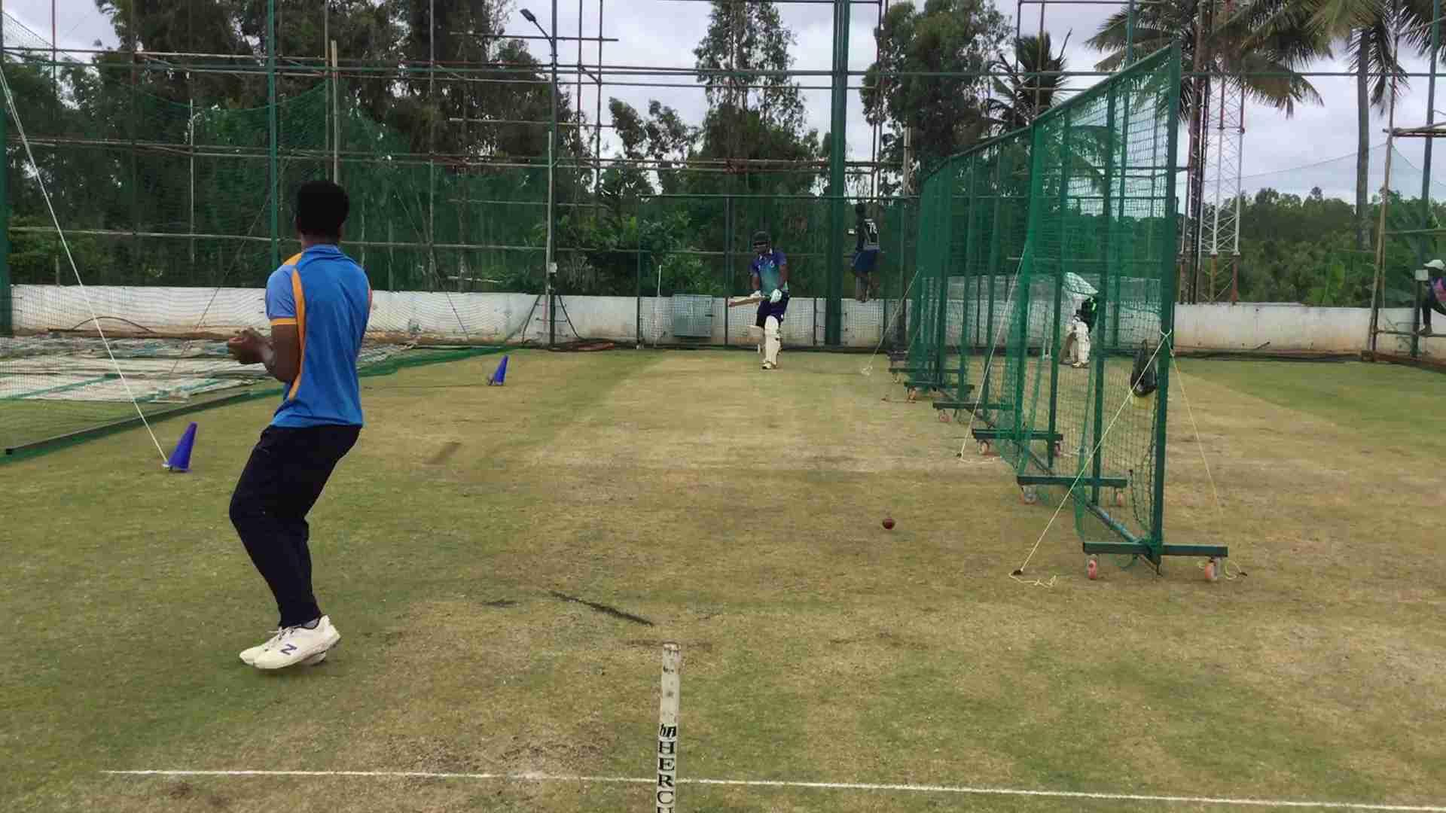batsman: (747, 223, 791, 373)
